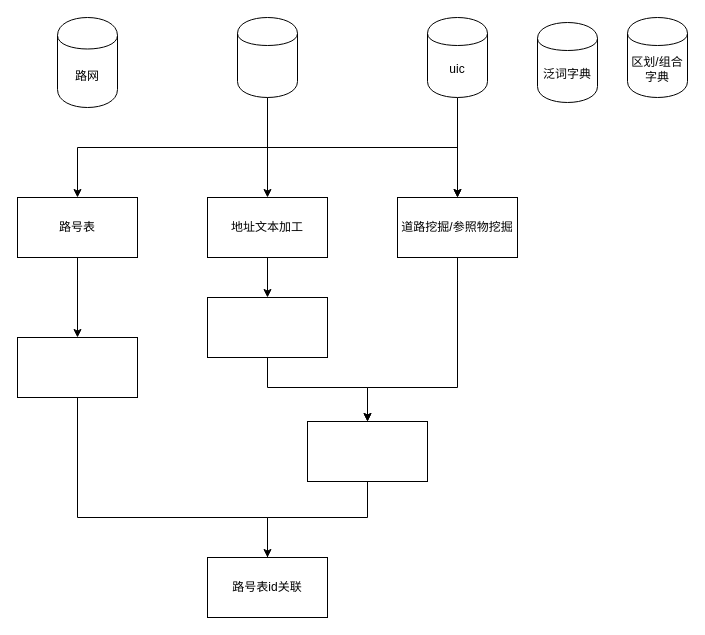
Some shapes in this 705 by 635 pixel diagram are drawn without their labels. The centre of each missing label's shape, as x and y in pixels:
"poi" belongs at [267,57].
"地址实体表 二层" belongs at [267,327].
"路号表路网过滤" belongs at [77,367].
"道路uic补充" belongs at [367,451].
